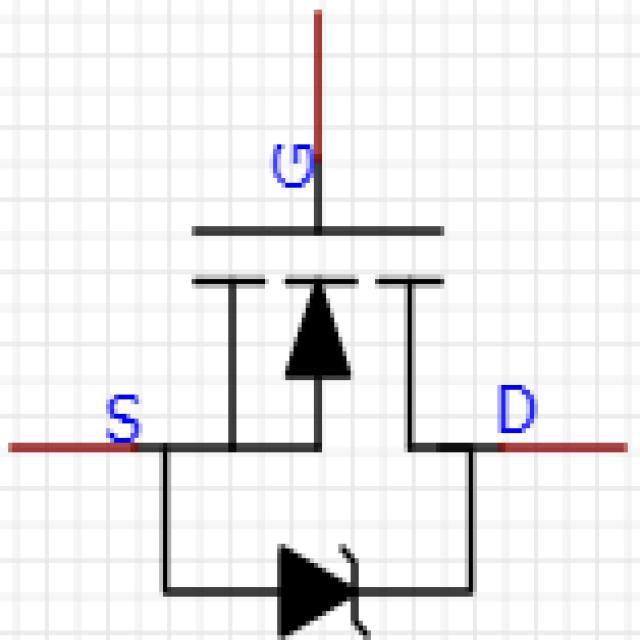nmos: (15, 26, 602, 638)
